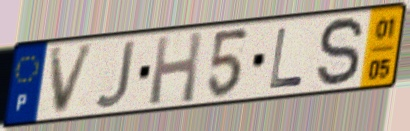5: (204, 24, 252, 102)
H: (147, 28, 205, 108)
J: (92, 38, 139, 111)
L: (266, 26, 305, 91)
S: (314, 14, 367, 91)
V: (47, 41, 98, 119)
